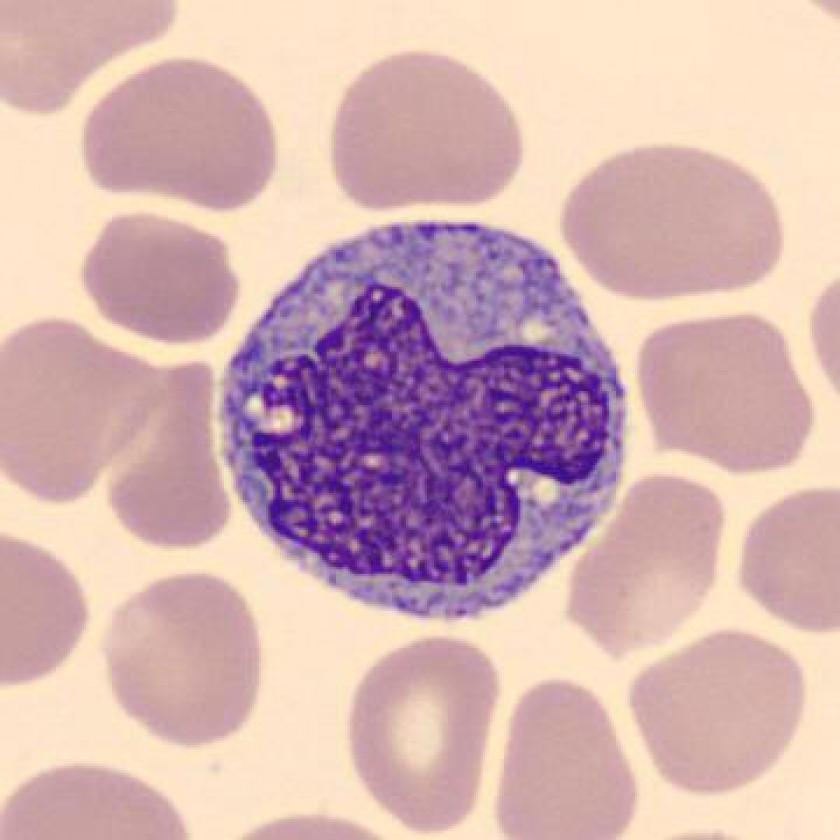monocyte: (202, 207, 650, 642)
